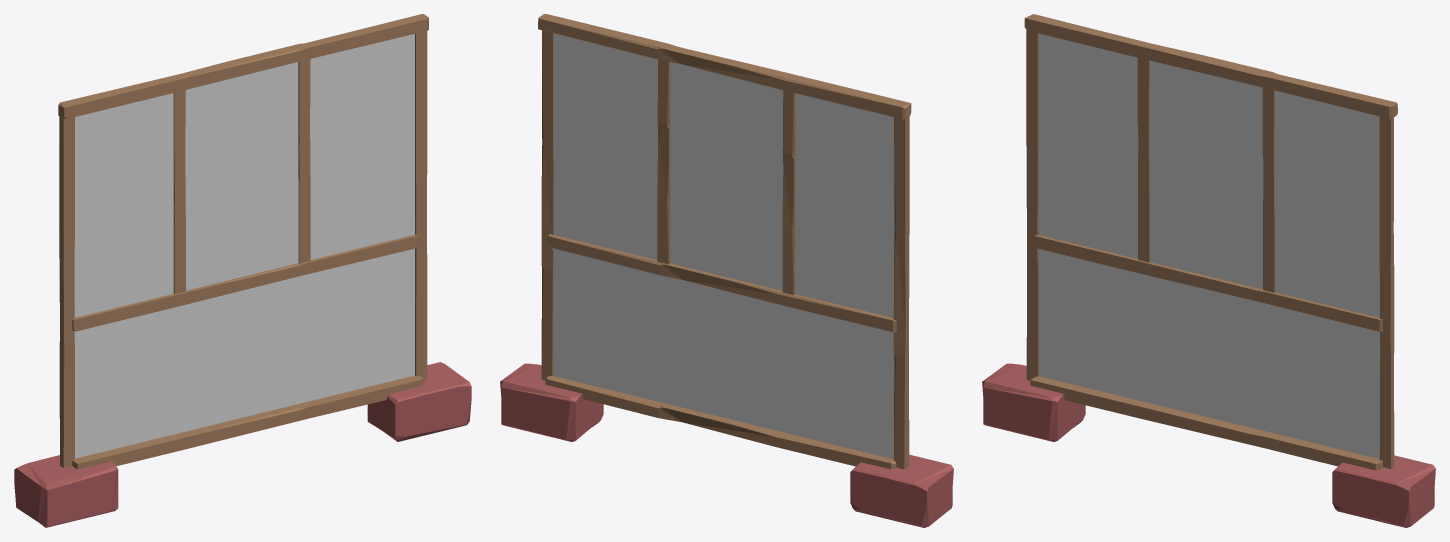
Rendered from PK_Veranda_Panel_Wide.fbx.
The picture shows the model from 3 angles, left to right: view 1: azimuth 30°, elevation 25°; view 2: azimuth 150°, elevation 25°; view 3: azimuth 330°, elevation 25°; orthographic projection.
Parts seen in each view (by area): view 1: PK_Veranda_Panel_Wide; view 2: PK_Veranda_Panel_Wide; view 3: PK_Veranda_Panel_Wide.
Boxes of the visible parts, bbox=[...] form: PK_Veranda_Panel_Wide: bbox=[14, 14, 471, 527]; PK_Veranda_Panel_Wide: bbox=[500, 14, 953, 527]; PK_Veranda_Panel_Wide: bbox=[982, 14, 1435, 527].
Bounding box in the file's own units: 244 × 221 × 28.81.
